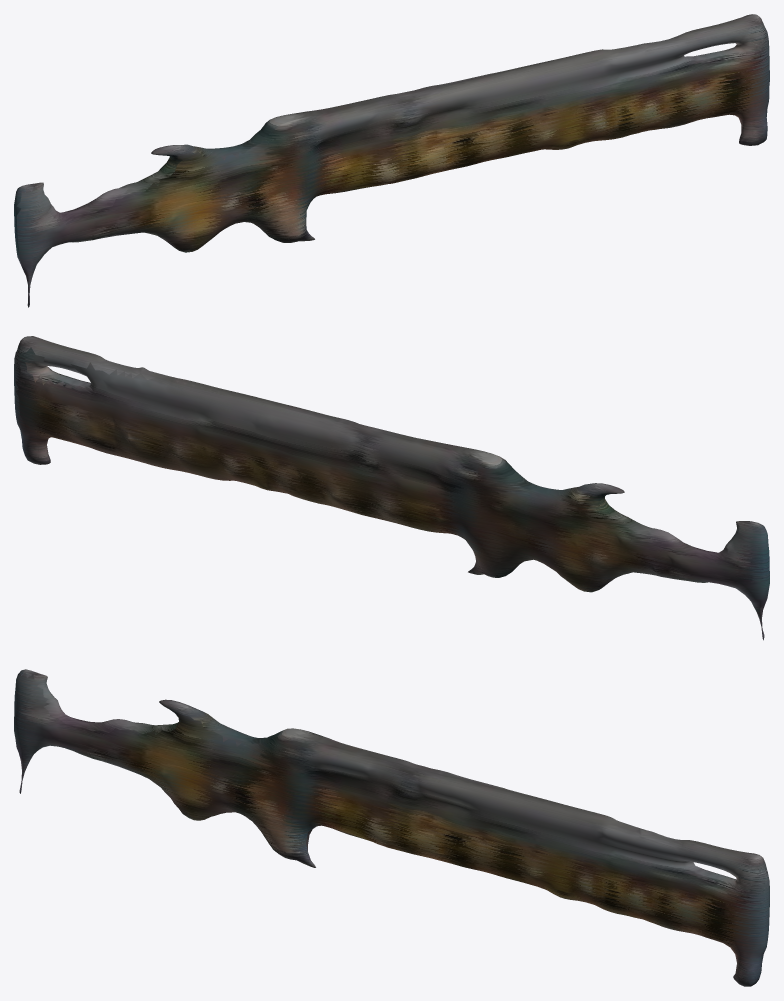
The model's file is kfl-2175.glb.
The picture shows the model from 3 angles, top to bottom: view 1: azimuth 30°, elevation 25°; view 2: azimuth 150°, elevation 25°; view 3: azimuth 330°, elevation 25°; orthographic projection. The views are drawn at different scales.
Parts seen in each view (by area): view 1: geometry_0; view 2: geometry_0; view 3: geometry_0.
Boxes of the visible parts, x1,y1,x2,y2 form: geometry_0: (14, 14, 769, 307); geometry_0: (14, 336, 769, 640); geometry_0: (14, 669, 769, 986).
Bounding box in the file's own units: 0.9882 × 0.1624 × 0.0686.
1 material, 1 textured.
